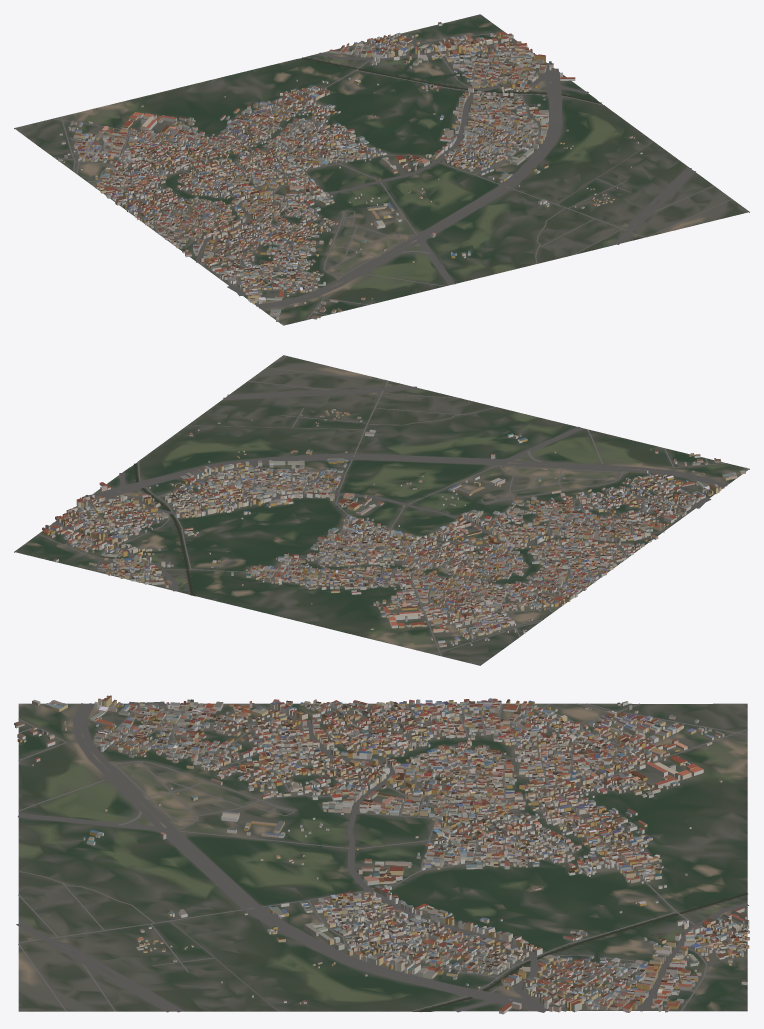
The picture shows the model from 3 angles, top to bottom: view 1: azimuth 30°, elevation 25°; view 2: azimuth 150°, elevation 25°; view 3: azimuth 270°, elevation 25°; orthographic projection. The views are drawn at different scales.
Visible parts, largest first — view 1: ground, buildings, roads, water; view 2: ground, buildings, roads; view 3: ground, buildings, roads, water.
Part boxes in pixels (box(x1,y1,x2,y2)): ground: box(14, 14, 749, 325); buildings: box(58, 22, 642, 321); roads: box(53, 32, 732, 324); water: box(84, 57, 601, 130); ground: box(14, 355, 749, 665); buildings: box(42, 409, 745, 647); roads: box(38, 367, 747, 656); ground: box(18, 703, 747, 1011); buildings: box(14, 695, 749, 1014); roads: box(16, 701, 748, 1012); water: box(419, 737, 747, 1011).
Bounding box in the file's own units: 1424 × 25.99 × 1415.
